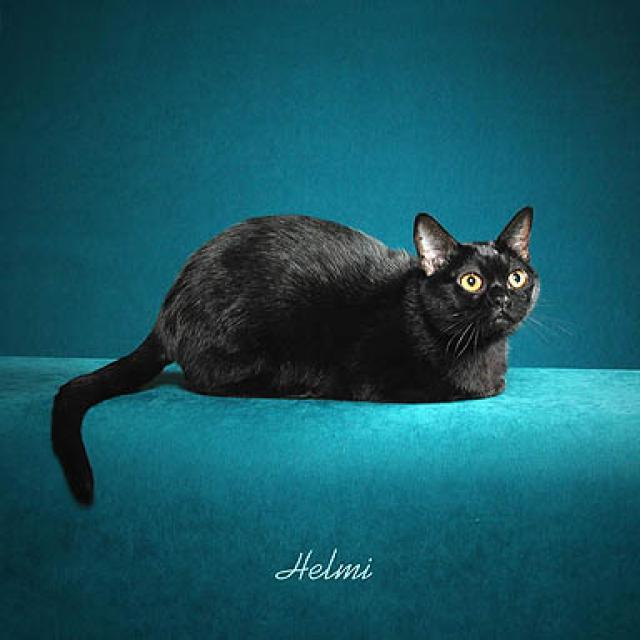Bombay: (409, 209, 553, 345)
